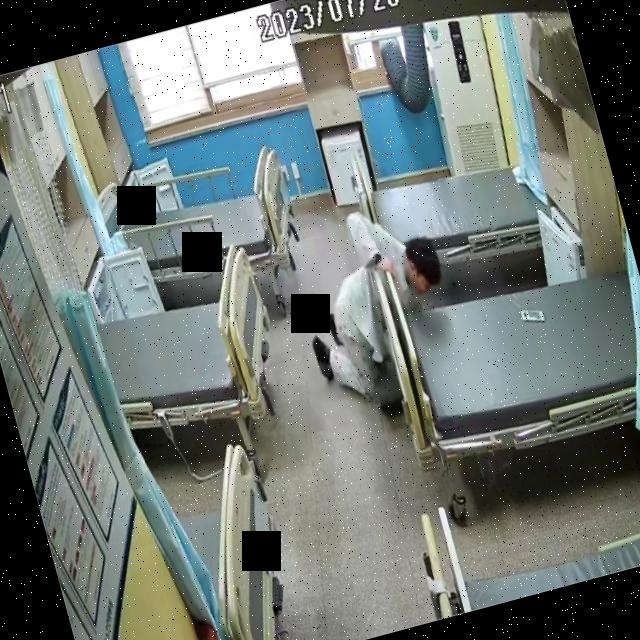bed: (396, 246, 640, 475), (85, 238, 296, 454), (94, 140, 304, 304), (351, 124, 557, 288)
fall: (282, 194, 468, 410)
patient: (282, 192, 469, 412)
